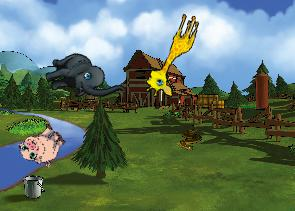elephant: (40, 39, 125, 117)
giraffe: (141, 7, 202, 102)
pig: (14, 117, 70, 173)
